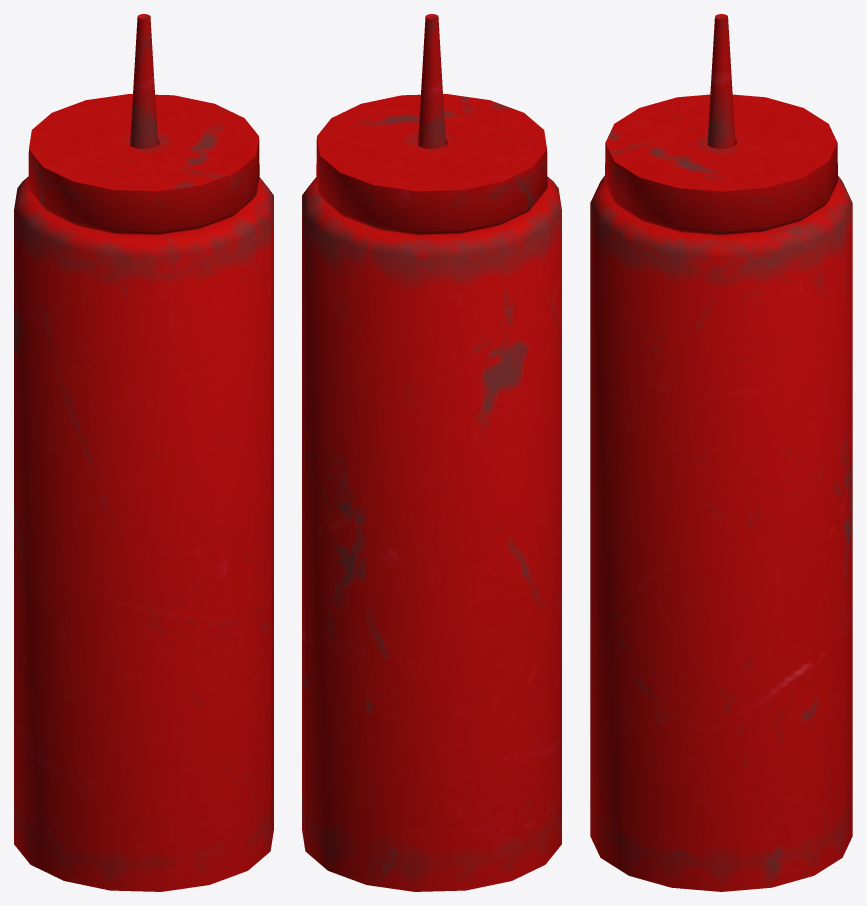
The model's file is Prop_Ketchup.fbx.
3 views of the same model, side by side, from view 1: azimuth 30°, elevation 25°; view 2: azimuth 150°, elevation 25°; view 3: azimuth 270°, elevation 25° (orthographic).
Parts seen in each view (by area): view 1: Prop_Ketchup; view 2: Prop_Ketchup; view 3: Prop_Ketchup.
Boxes of the visible parts, <box> form: Prop_Ketchup: <box>14,14,273,891</box>; Prop_Ketchup: <box>302,14,561,891</box>; Prop_Ketchup: <box>590,14,852,891</box>.
Bounding box in the file's own units: 3.3 × 11.38 × 3.3.
